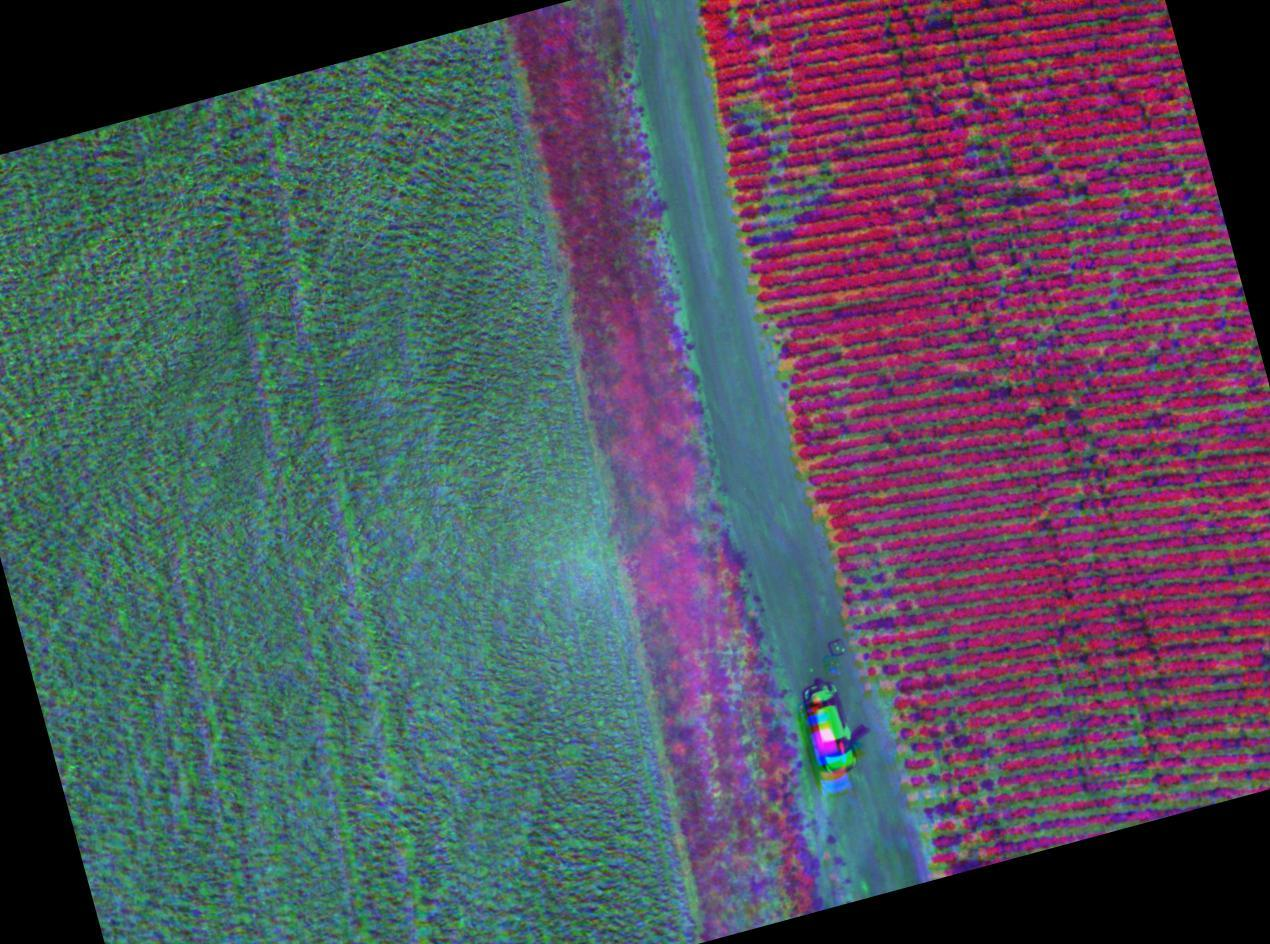dc: (873, 652, 983, 753), (905, 773, 1014, 862), (847, 552, 926, 640), (751, 166, 834, 249), (1082, 697, 1159, 772), (726, 87, 784, 146)
